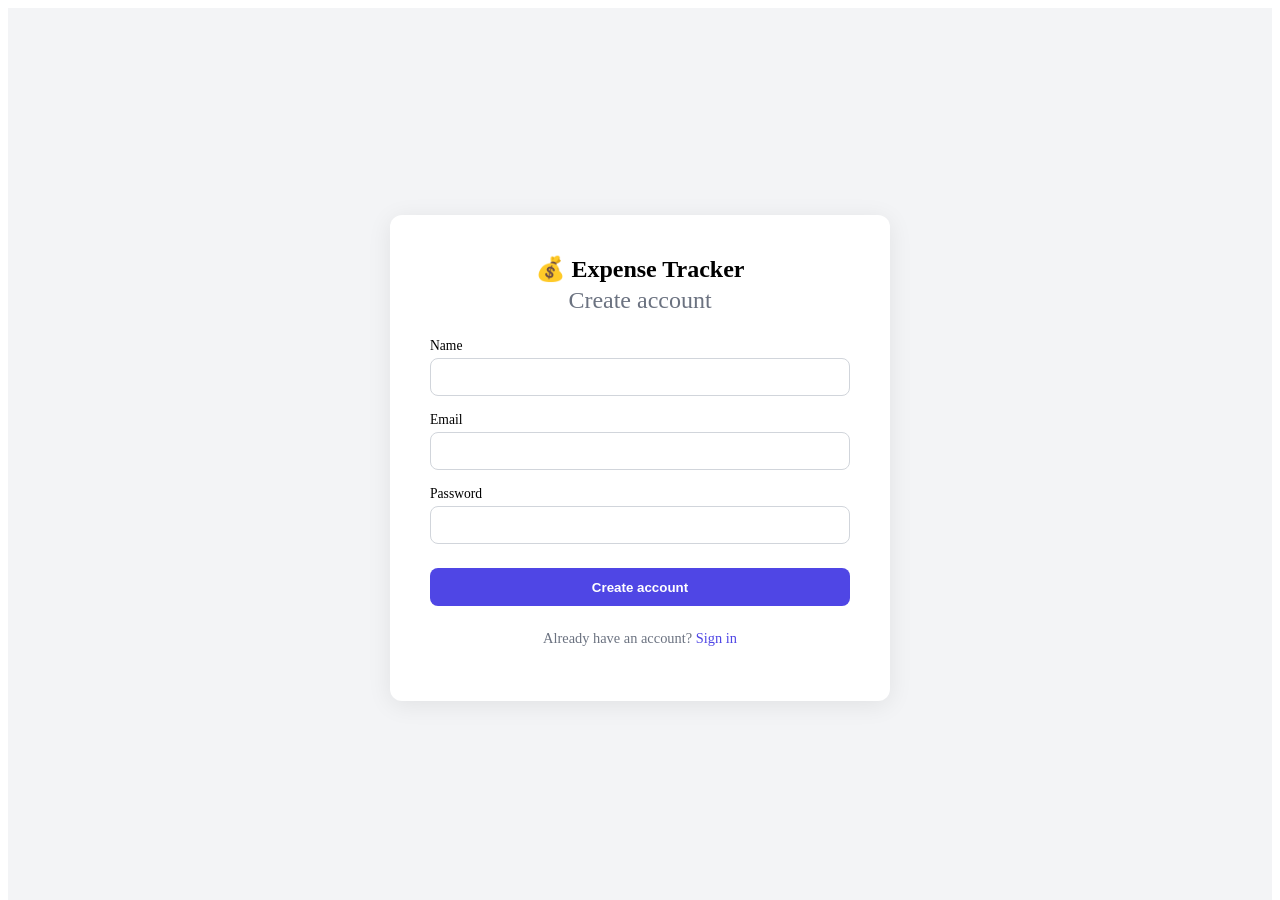
Test case: RegisterPage › shows a server error message when registration fails
The width and height of the screenshot is (1280, 900).
Type "Test User" into the field named "name" below "Name" at (640, 377), box 430,358 -> 850,396
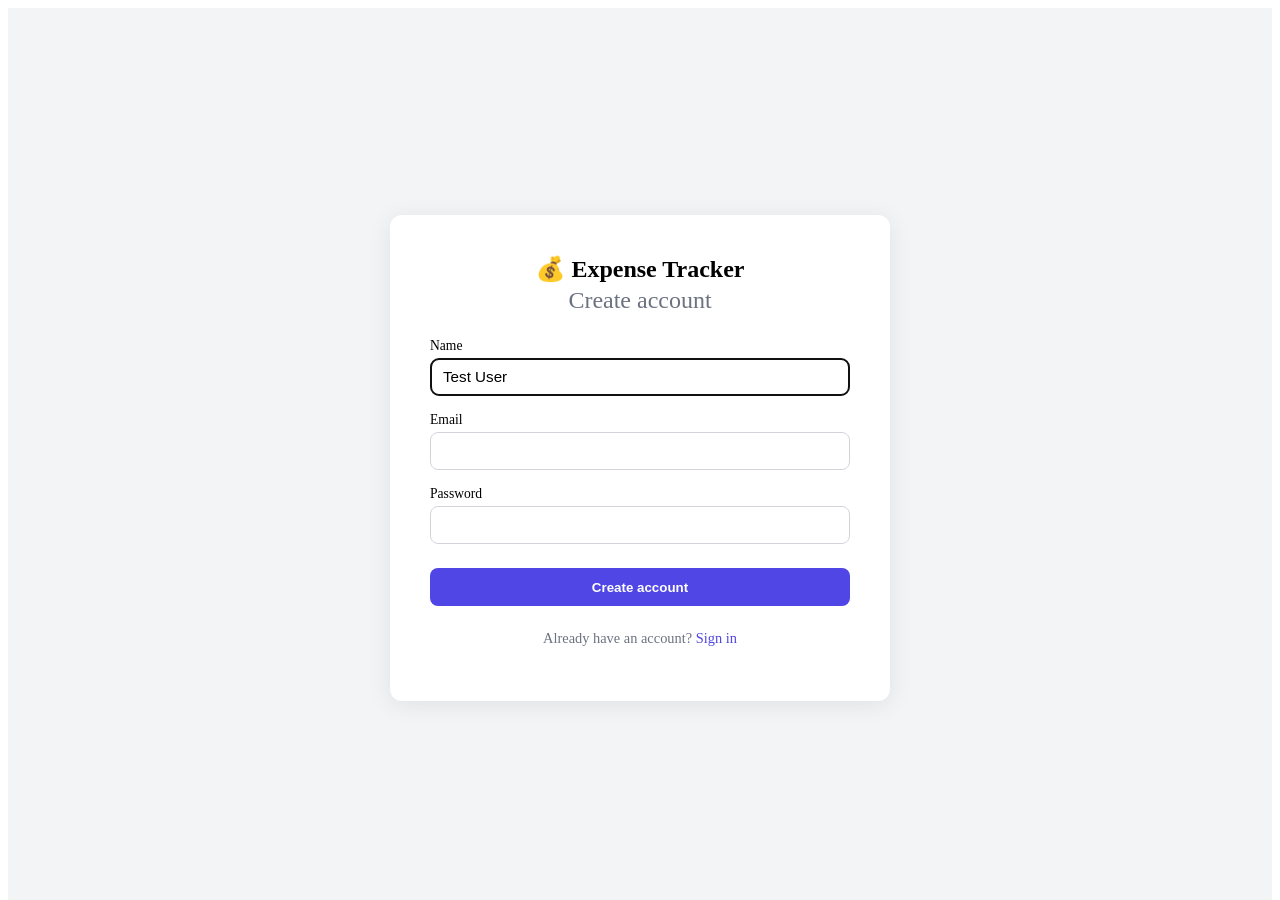
Type "duplicate@test.com" into the field named "email" below "Email" at (640, 451), box 430,432 -> 850,470
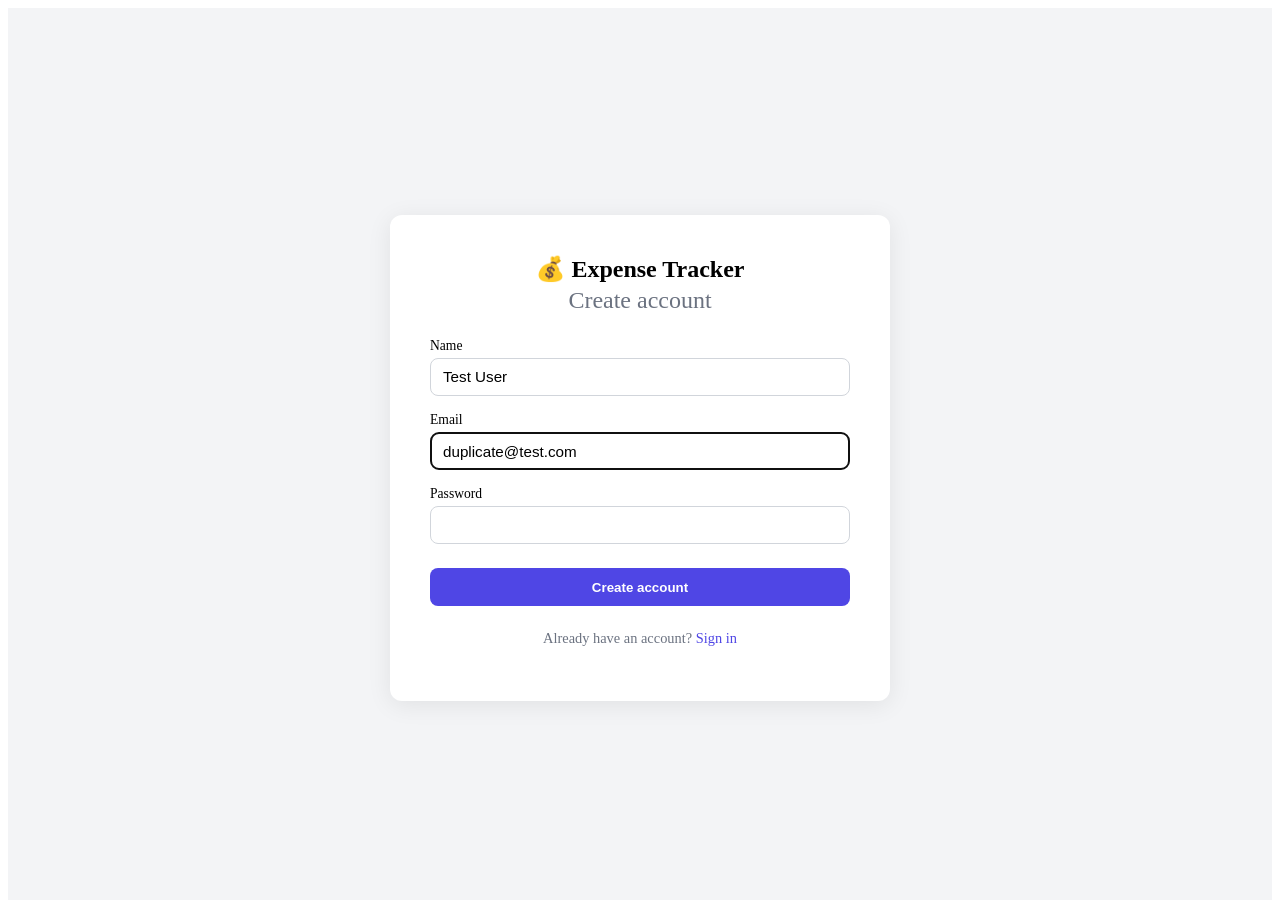
Type "password123" into the password field named "password" at (640, 525), box 430,506 -> 850,544
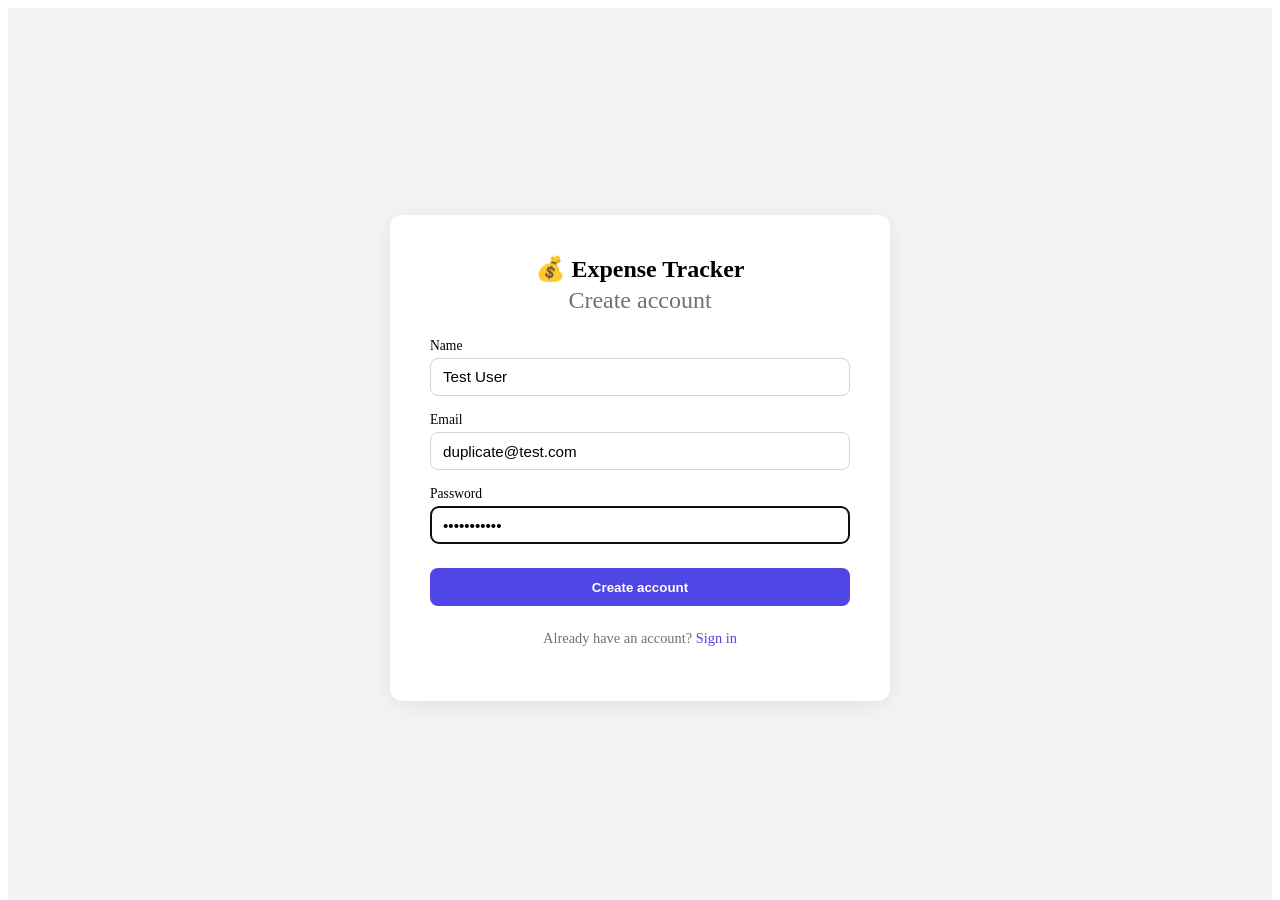
Click the button "Create account" at (640, 587), box 430,568 -> 850,606
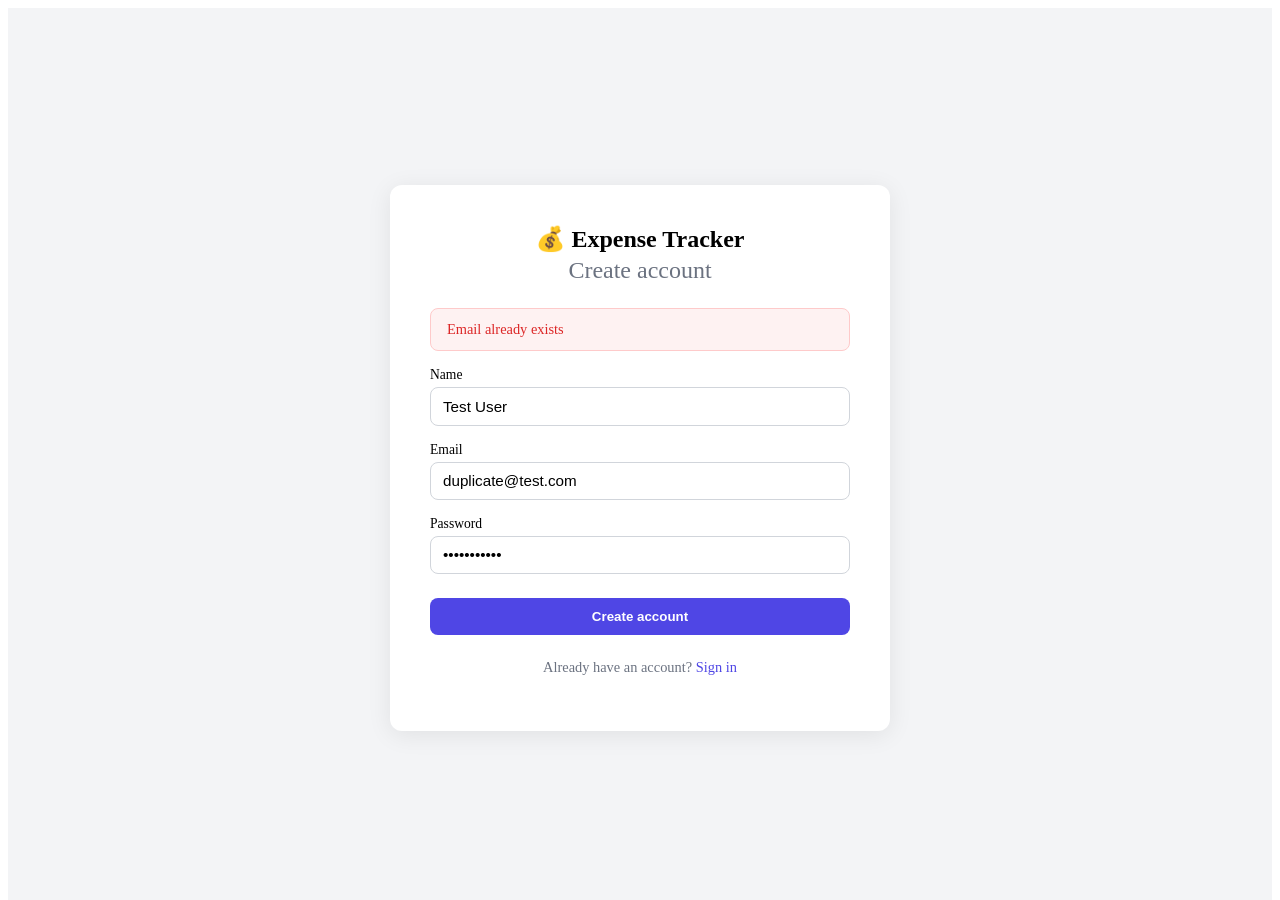
Result: the text "Email already exists" is shown at 430,308 -> 850,351
